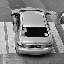mobil: (11, 6, 54, 57)
